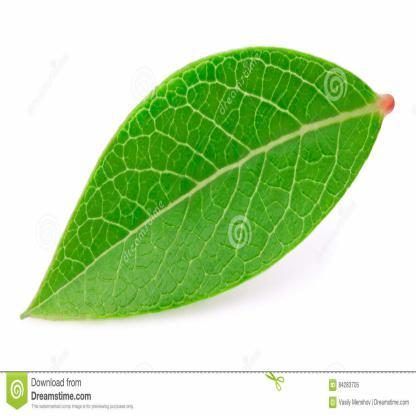Blueberry leaf: (14, 45, 401, 332)
